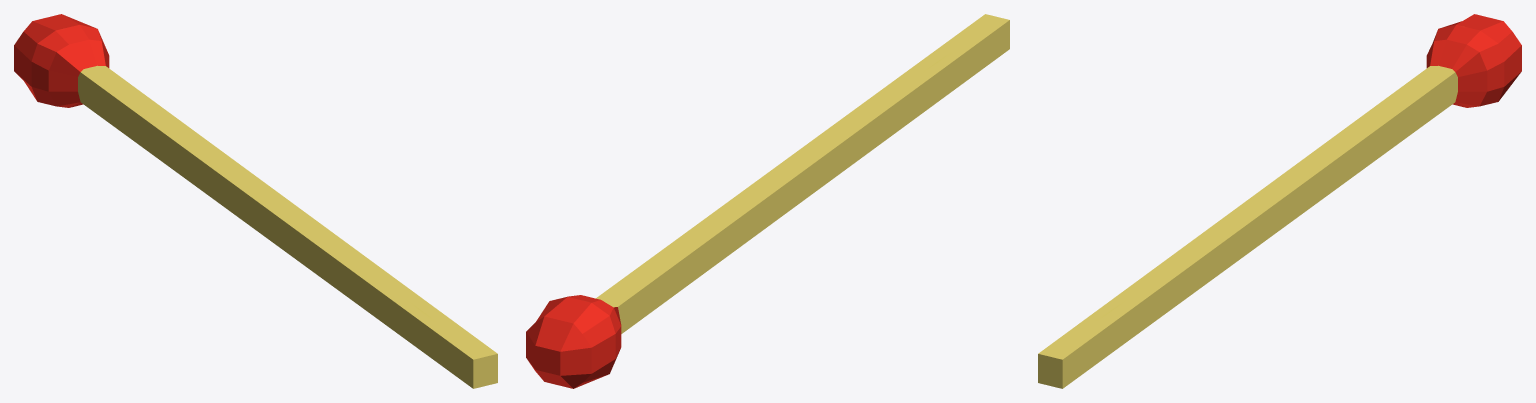
The model's file is match.glb.
3 views of the same model, side by side, from view 1: azimuth 30°, elevation 25°; view 2: azimuth 150°, elevation 25°; view 3: azimuth 330°, elevation 25° (orthographic).
Visible parts, largest first — view 1: Match; view 2: Match; view 3: Match.
Part boxes in pixels (x1,y1,x2,y2): Match: [14, 14, 497, 388]; Match: [526, 14, 1009, 388]; Match: [1038, 14, 1521, 388].
Size of the model in its own units: 0.0245 by 0.0245 by 0.2651.
1 material, 1 textured.
